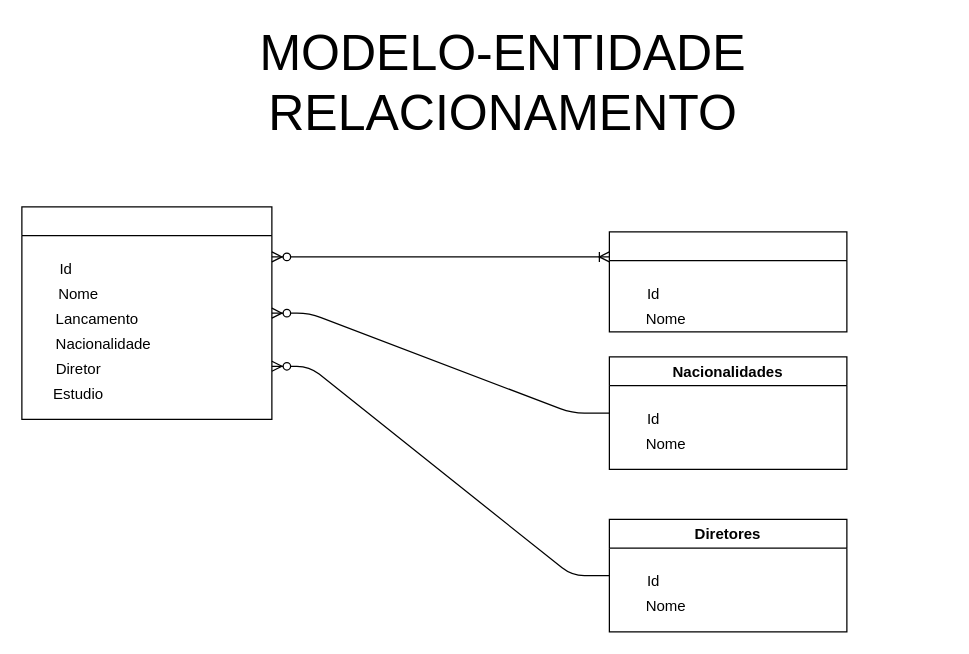
Image size: 969x654. Some labels were removed from this diagram. Here are the shapes that lost their labels. From the top down, the box of each, then its label:
(608, 231, 847, 332): Atores
(21, 206, 272, 419): Titulos
